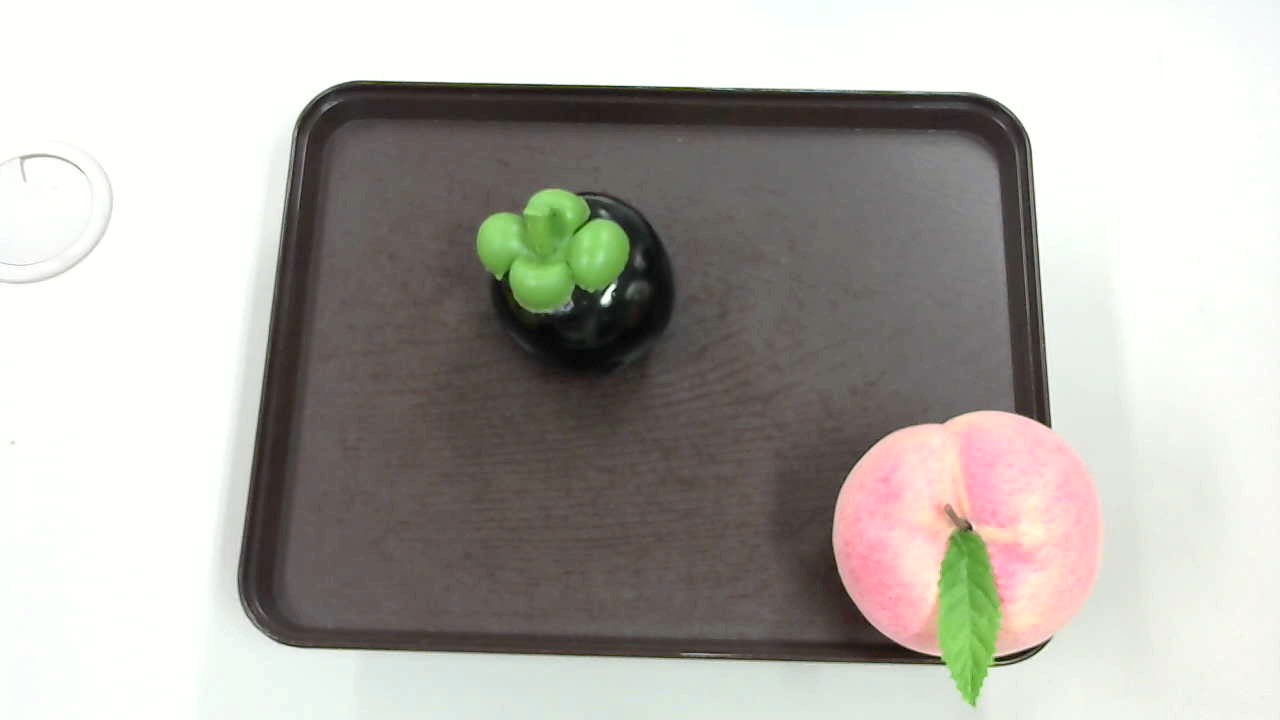mangosteen: (480, 179, 684, 369)
peach: (824, 405, 1100, 700)
